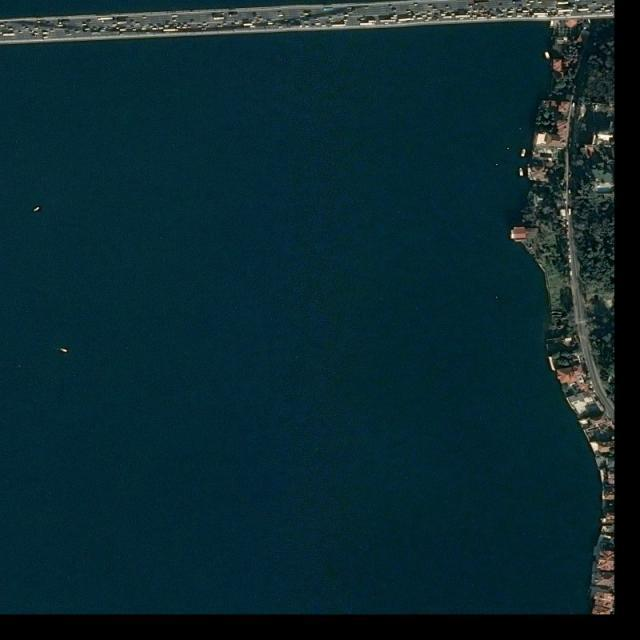ship: (544, 50, 551, 60), (521, 148, 527, 158), (518, 167, 524, 177), (33, 206, 41, 213), (61, 348, 69, 354)
